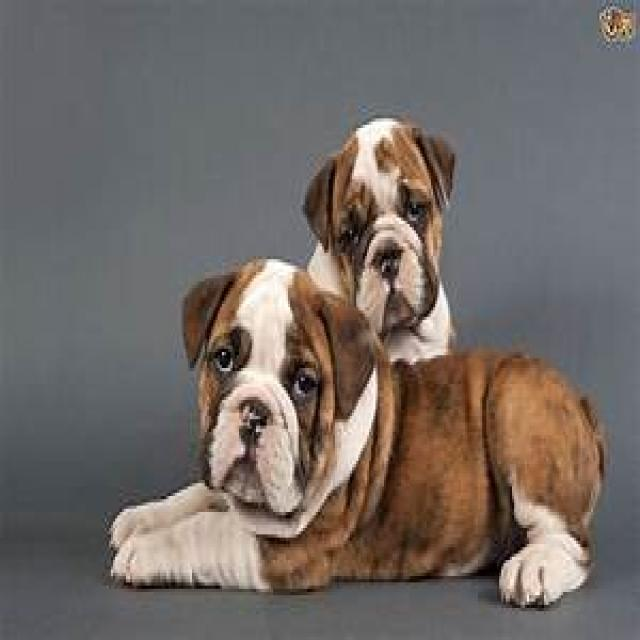dog: (107, 253, 606, 608), (301, 115, 456, 365)
